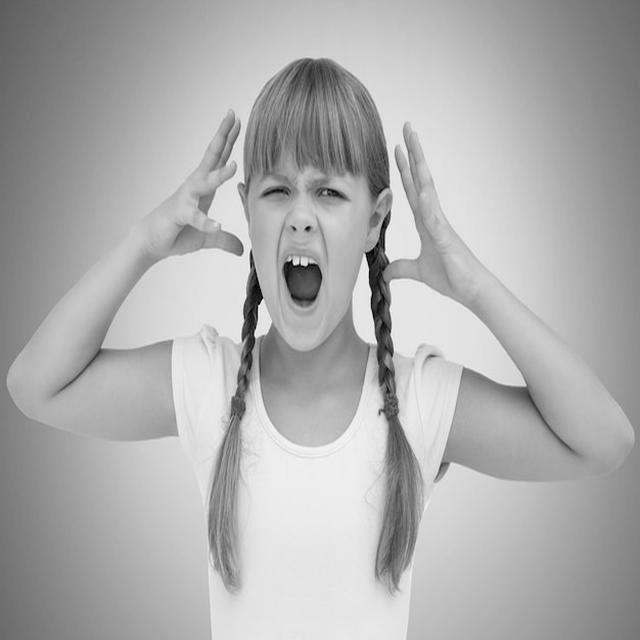Angry: (249, 127, 373, 353)
